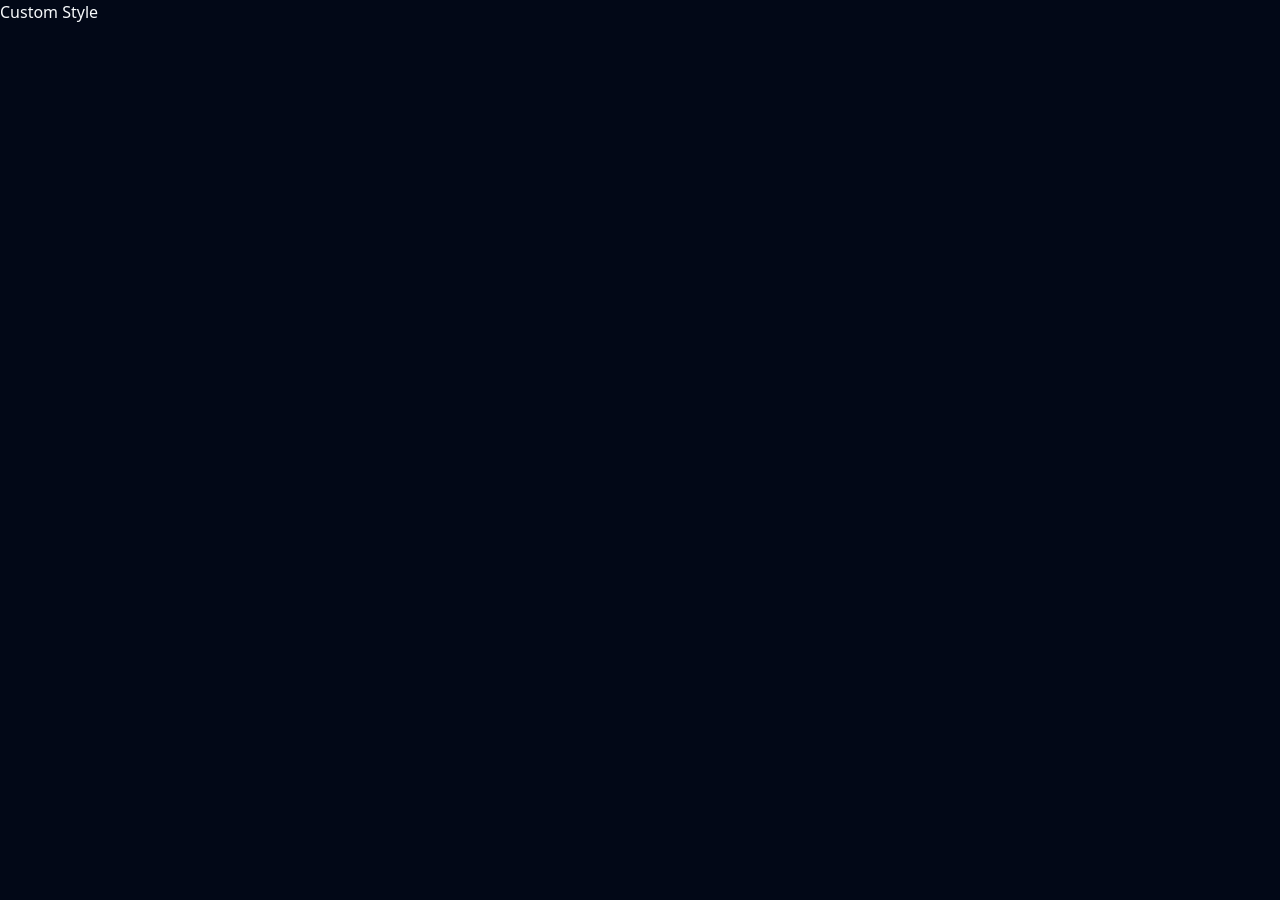
it: Dialog组件系统 › DialogContent › 应该支持自定义className
Click the button "Custom Style".
click(49, 12)  # box [0,0,98,24]
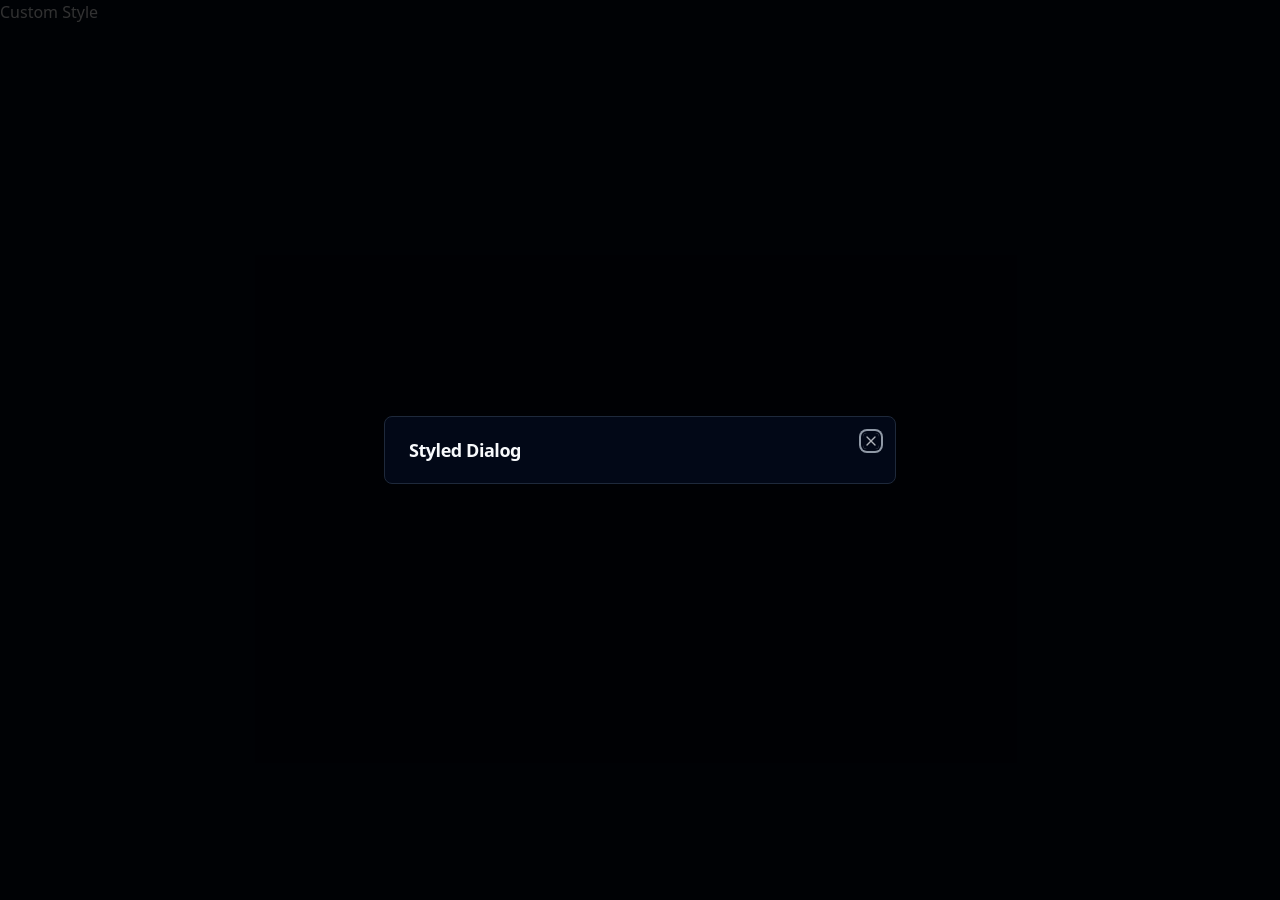
Expected: the dialog with test id "custom-dialog" is shown, [384,416,896,484]
